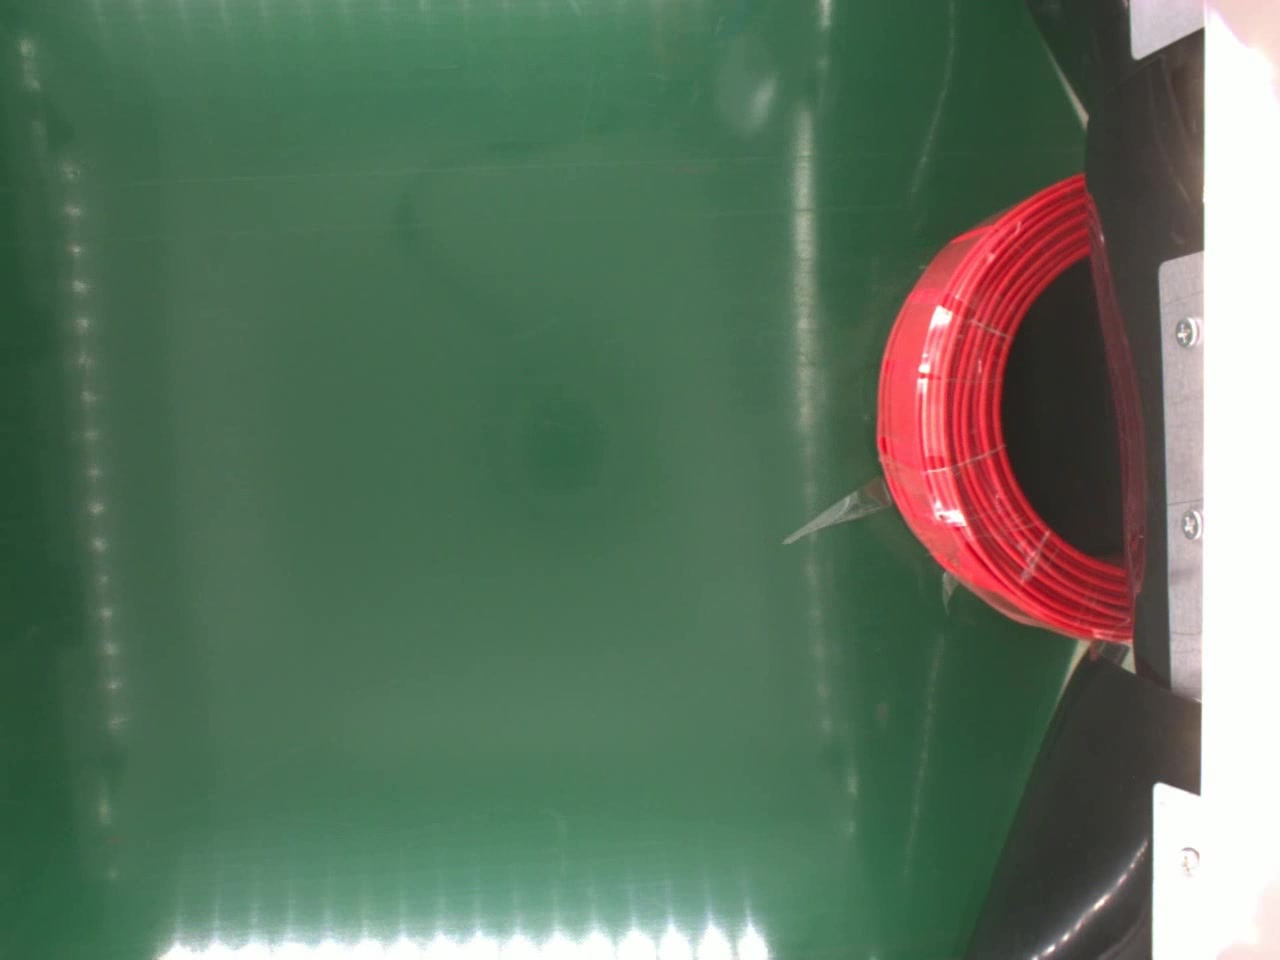red: (871, 172, 1134, 643)
